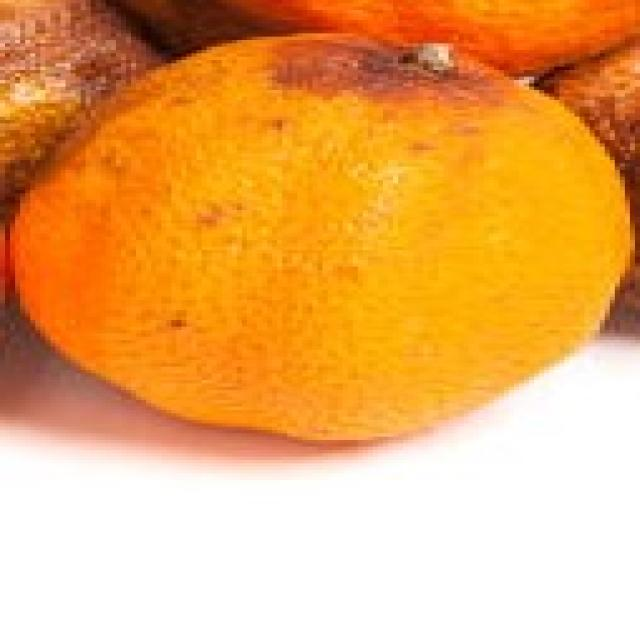overripe: (5, 26, 640, 446)
